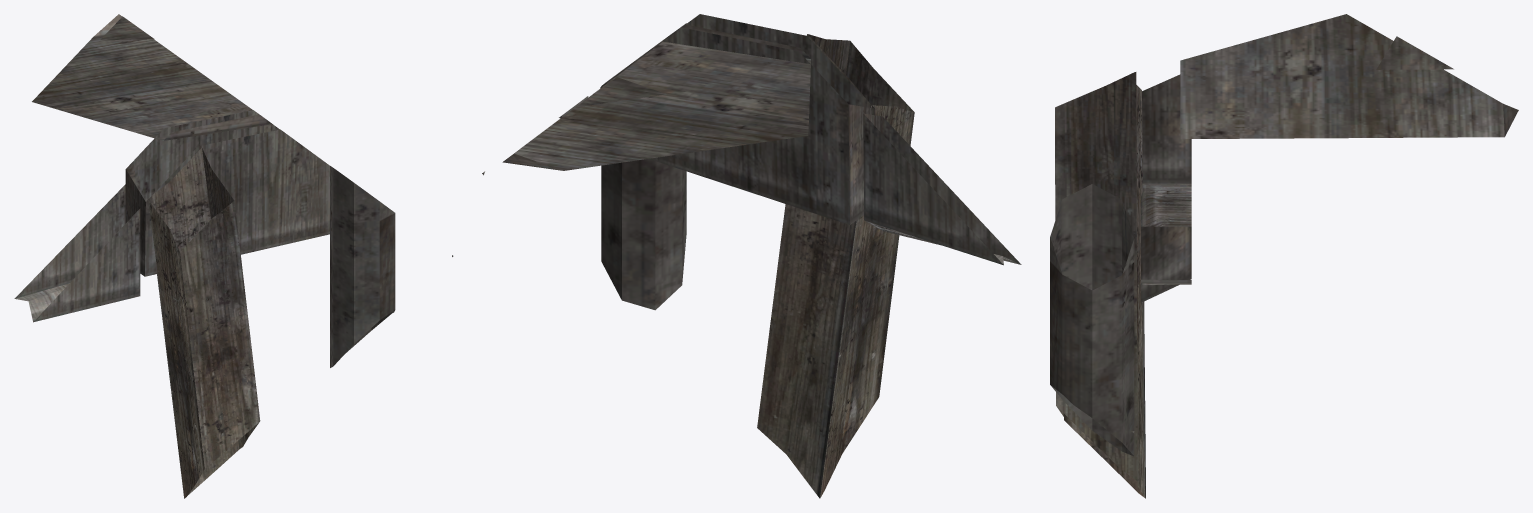
Rendered from Wagon3_18.fbx.
3 views of the same model, side by side, from view 1: azimuth 30°, elevation 25°; view 2: azimuth 150°, elevation 25°; view 3: azimuth 270°, elevation 25° (orthographic). The views are drawn at different scales.
Visible parts, largest first — view 1: SM_Wagon03_DM.018; view 2: SM_Wagon03_DM.018; view 3: SM_Wagon03_DM.018.
Boxes of the visible parts, box(x1,y1,x2,y2) form: SM_Wagon03_DM.018: box(14, 14, 453, 498); SM_Wagon03_DM.018: box(482, 14, 1021, 498); SM_Wagon03_DM.018: box(1050, 14, 1518, 498).
Bounding box in the file's own units: 5501 × 4763 × 4281.
1 material, 1 textured.
